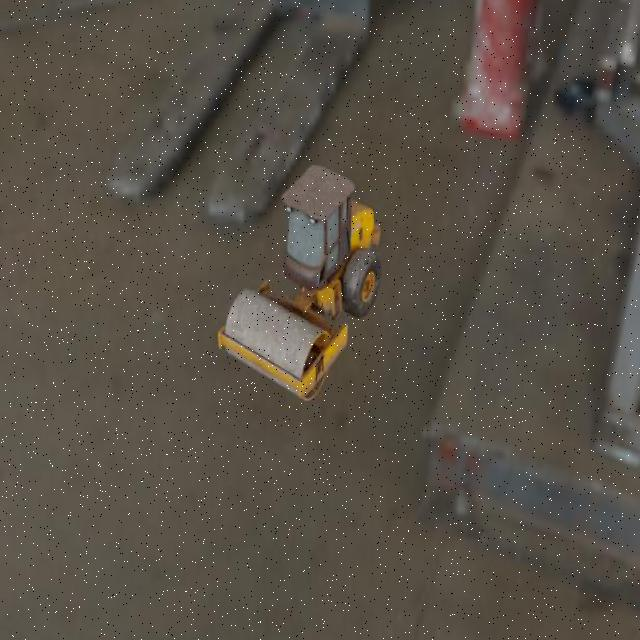Roller: (217, 164, 381, 400)
